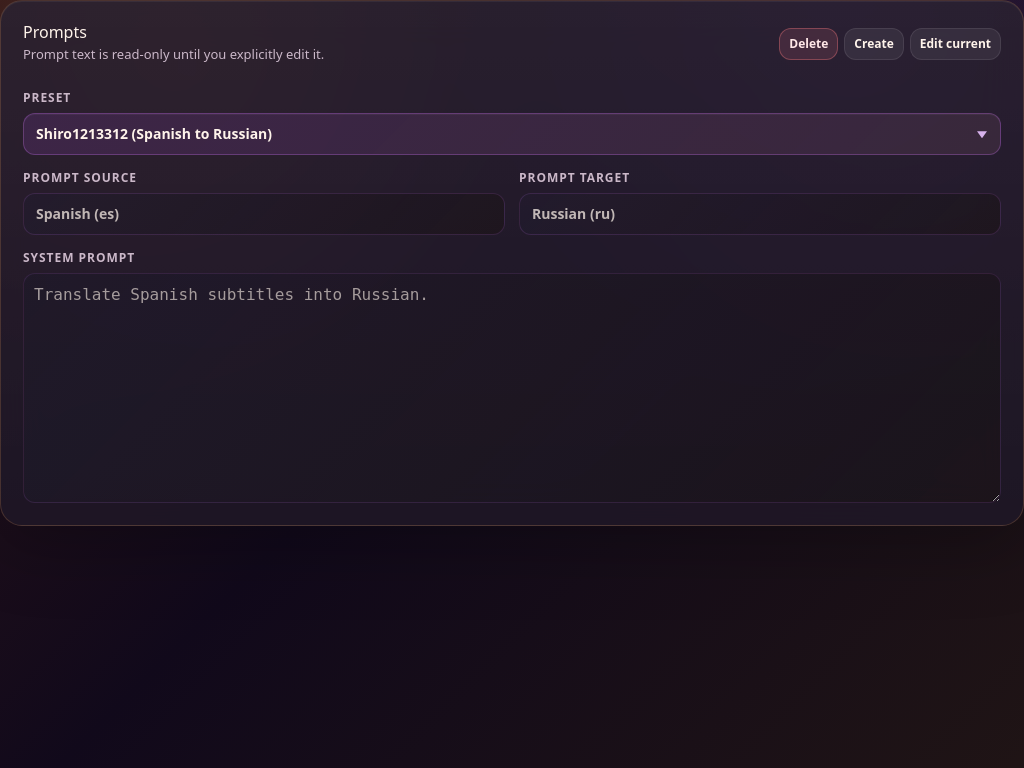
PromptSettingsPanel › shows the actual backend error when saving fails
Click the button "Edit current".
click(955, 44)  # box [910,28,1001,60]
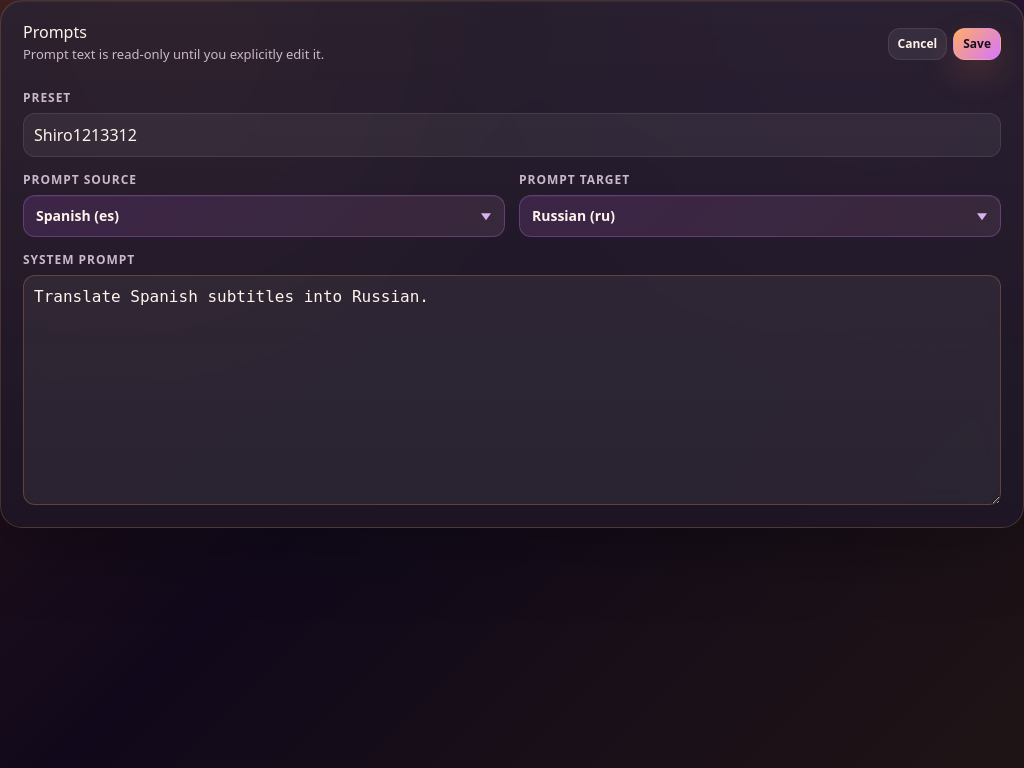
Click the button "Save".
click(977, 44)  # box [953,28,1001,60]
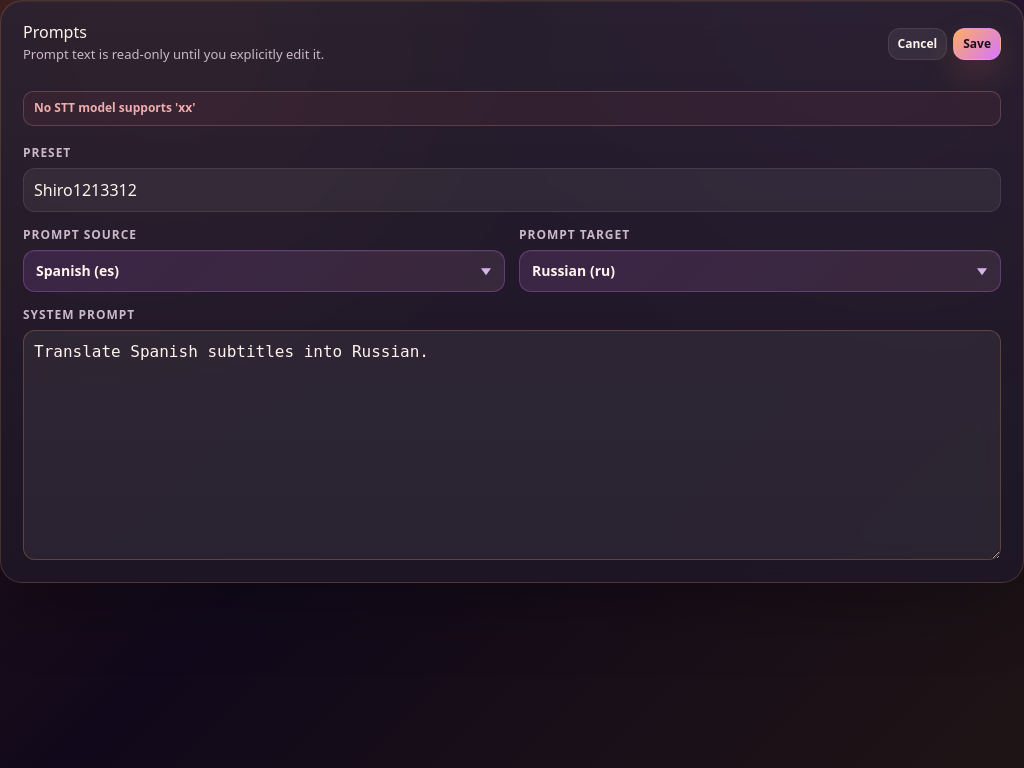
expect the text "No STT model supports 'xx'" is shown: met, box [23,91,1001,126]
